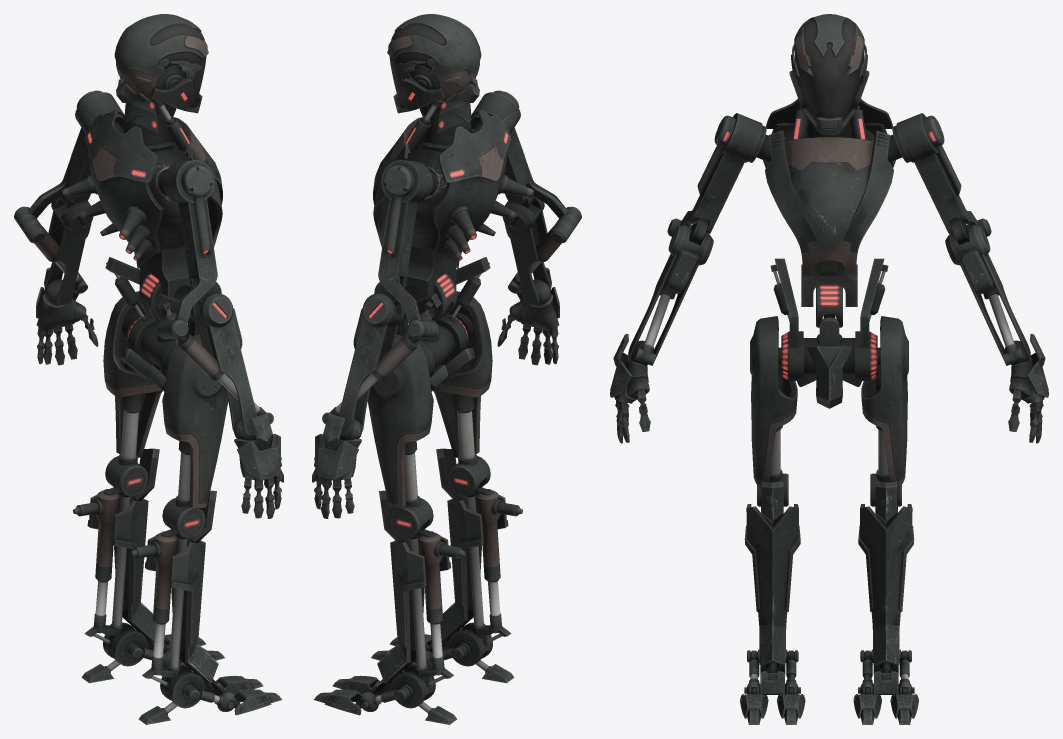
The model's file is robot_character.glb.
3 renders of one model, left to right at view 1: azimuth 30°, elevation 25°; view 2: azimuth 150°, elevation 25°; view 3: azimuth 270°, elevation 25°, orthographic.
Parts seen in each view (by area): view 1: Object_2, Object_4, Object_3, Object_5; view 2: Object_2, Object_4, Object_3, Object_5; view 3: Object_2, Object_4, Object_3, Object_5.
Boxes of the visible parts, <box> form: Object_2: <box>14,60,280,507</box>; Object_4: <box>73,246,281,724</box>; Object_3: <box>36,14,283,518</box>; Object_5: <box>105,362,216,544</box>; Object_2: <box>315,60,581,507</box>; Object_4: <box>314,246,522,724</box>; Object_3: <box>312,14,559,518</box>; Object_5: <box>379,362,490,544</box>; Object_2: <box>610,44,1048,485</box>; Object_4: <box>740,258,918,724</box>; Object_3: <box>614,14,1044,443</box>; Object_5: <box>757,376,901,526</box>.
Size of the model in its own units: 0.4383 by 1.86 by 1.11.
1 material, 1 textured.
